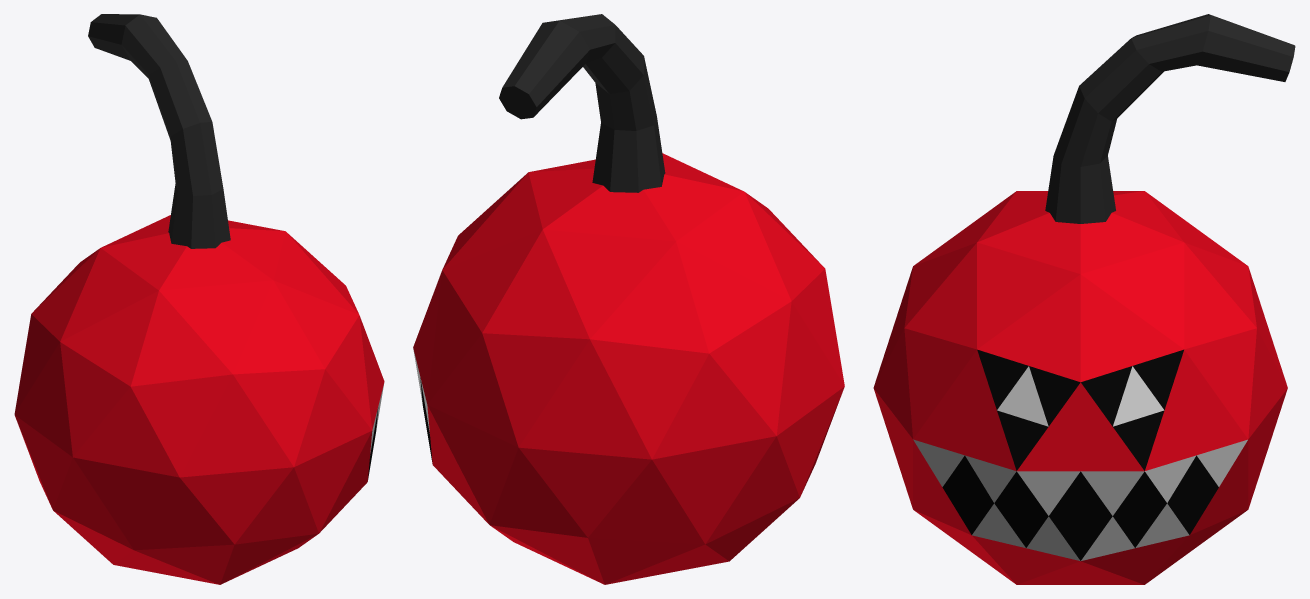
The model's file is CherryBomber.glb.
3 renders of one model, left to right at view 1: azimuth 30°, elevation 25°; view 2: azimuth 150°, elevation 25°; view 3: azimuth 270°, elevation 25°, orthographic. The views are drawn at different scales.
Parts seen in each view (by area): view 1: Icosphere, Cylinder; view 2: Icosphere, Cylinder; view 3: Icosphere, Cylinder.
Part boxes in pixels (box(x1,y1,x2,y2)): Icosphere: box(14, 215, 384, 584); Cylinder: box(88, 14, 230, 248); Icosphere: box(413, 153, 844, 584); Cylinder: box(499, 14, 665, 192); Icosphere: box(873, 191, 1287, 584); Cylinder: box(1045, 14, 1295, 223).
Size of the model in its own units: 1.9 by 2.98 by 2.04.
